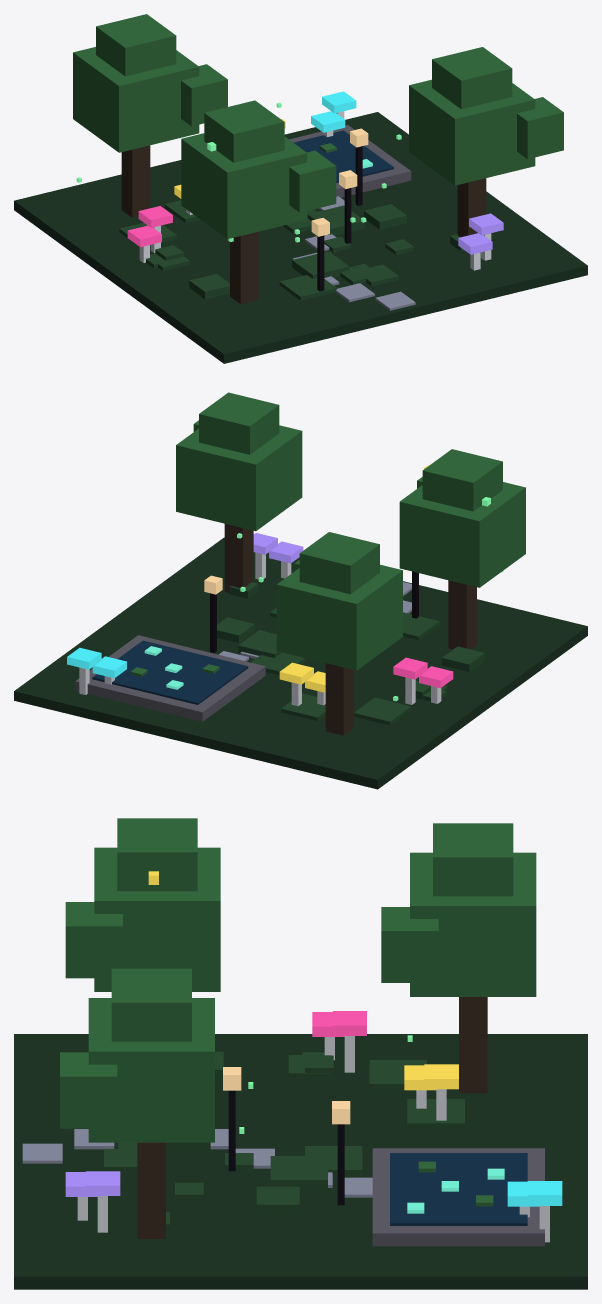
The model's file is plot.glb.
3 views of the same model, one above another, from view 1: azimuth 30°, elevation 25°; view 2: azimuth 150°, elevation 25°; view 3: azimuth 270°, elevation 25° (orthographic). The views are drawn at different scales.
Visible parts, largest first — view 1: garden_structure, garden_emissive; view 2: garden_structure, garden_emissive; view 3: garden_structure, garden_emissive.
Boxes of the visible parts, x1,y1,x2,y2 form: garden_structure: (14, 14, 587, 363); garden_emissive: (76, 91, 503, 254); garden_structure: (14, 392, 587, 789); garden_emissive: (67, 465, 503, 701); garden_structure: (14, 818, 587, 1289); garden_emissive: (65, 871, 562, 1213).
Size of the model in its own units: 10 by 5 by 10.
Materials: 2 (2 with a texture image).
